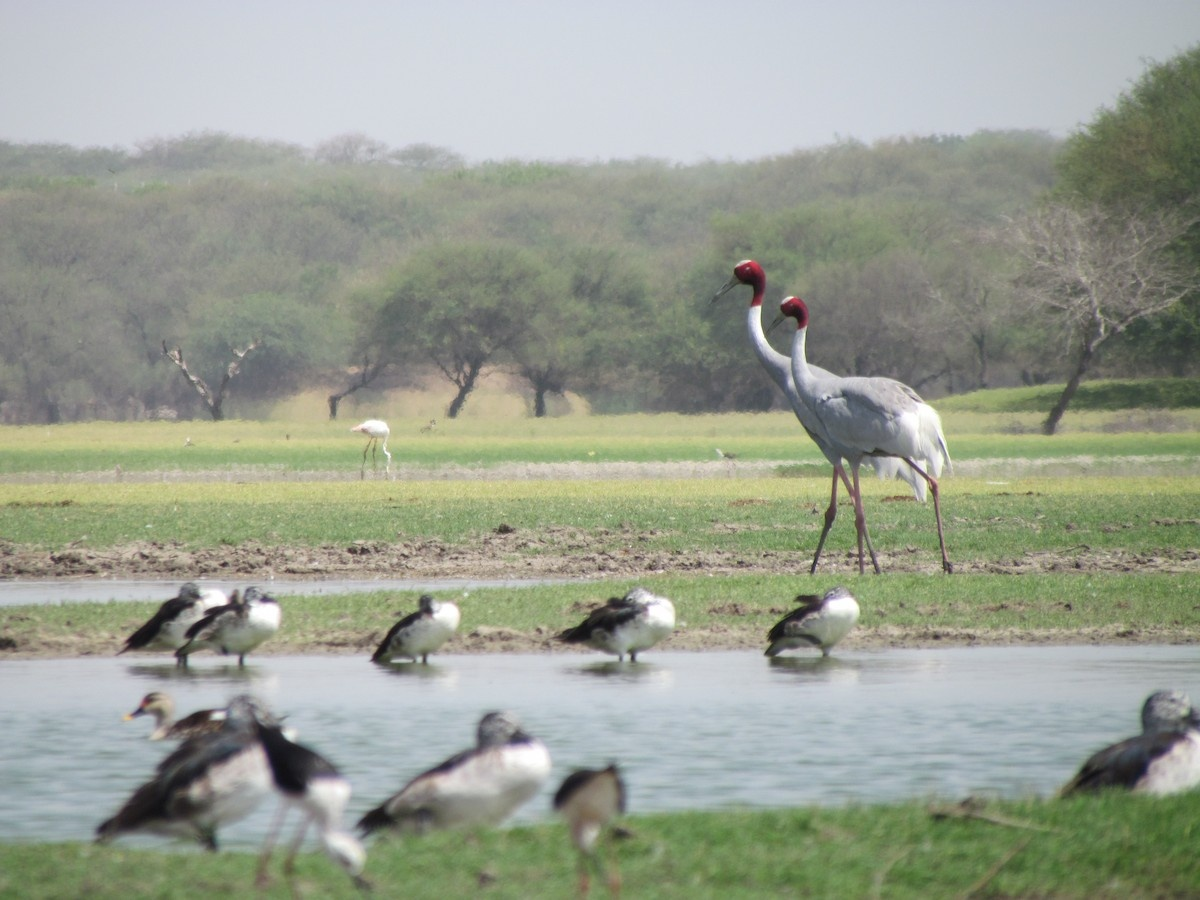crane: (774, 292, 978, 578), (708, 251, 783, 387)
